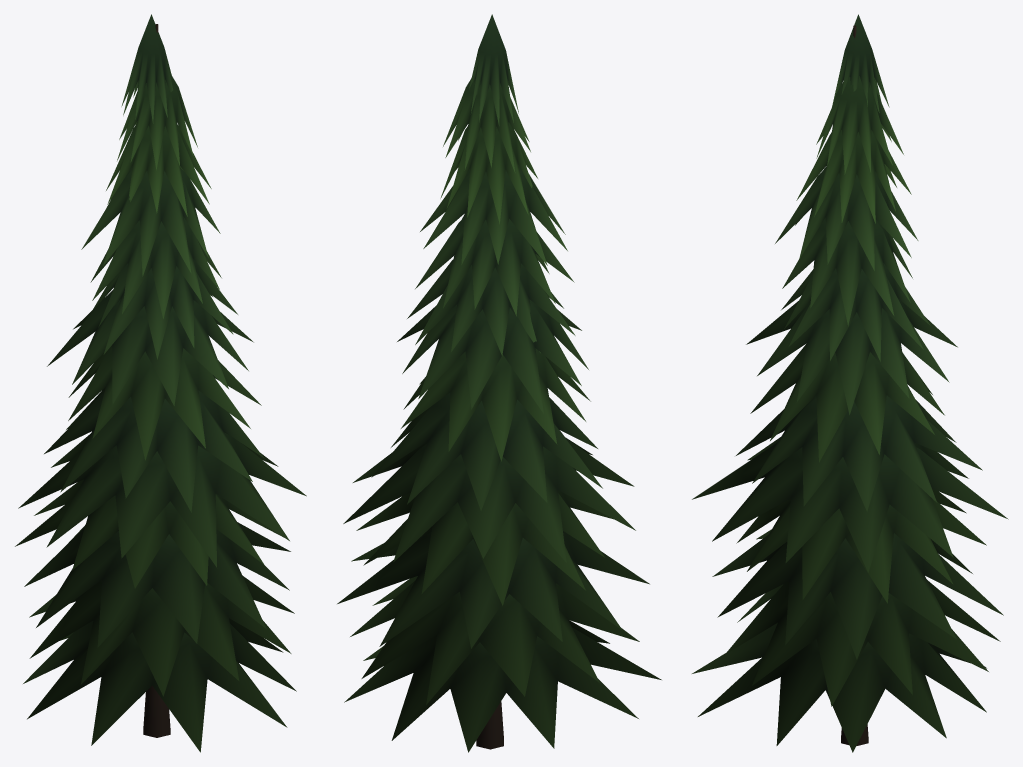
3 views of the same model, side by side, from view 1: azimuth 30°, elevation 25°; view 2: azimuth 150°, elevation 25°; view 3: azimuth 270°, elevation 25° (orthographic).
Visible parts, largest first — view 1: TR_SpruceOlive; view 2: TR_SpruceOlive; view 3: TR_SpruceOlive.
Boxes of the visible parts, bbox=[...] form: TR_SpruceOlive: bbox=[15, 14, 306, 752]; TR_SpruceOlive: bbox=[337, 14, 661, 752]; TR_SpruceOlive: bbox=[692, 14, 1008, 752].
Size of the model in its own units: 8.08 by 20.19 by 8.03.
